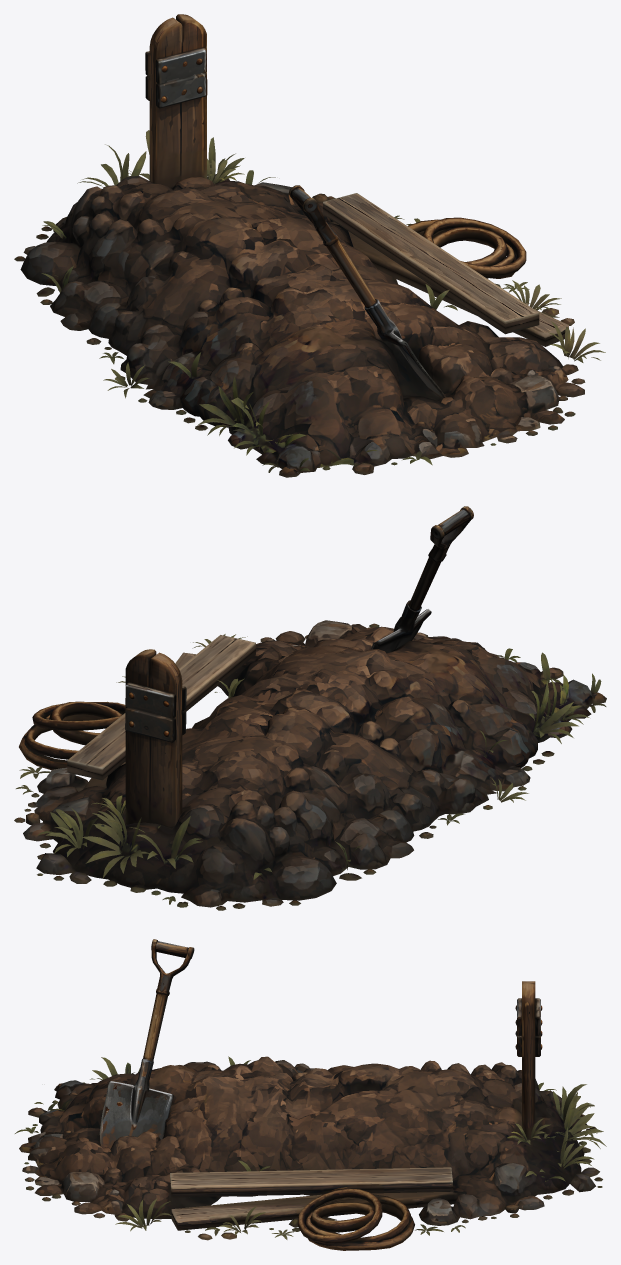
The model's file is act1_extras_v1_fresh_grave.glb.
The picture shows the model from 3 angles, top to bottom: view 1: azimuth 30°, elevation 25°; view 2: azimuth 150°, elevation 25°; view 3: azimuth 270°, elevation 25°; orthographic projection. The views are drawn at different scales.
Visible parts, largest first — view 1: tripo_2cf2c23b_8f0d_4697_acc4_678593e1d93a; view 2: tripo_2cf2c23b_8f0d_4697_acc4_678593e1d93a; view 3: tripo_2cf2c23b_8f0d_4697_acc4_678593e1d93a.
Boxes of the visible parts, left/top/right/bottom form: tripo_2cf2c23b_8f0d_4697_acc4_678593e1d93a: left=14, top=14, right=605, bottom=477; tripo_2cf2c23b_8f0d_4697_acc4_678593e1d93a: left=14, top=506, right=606, bottom=910; tripo_2cf2c23b_8f0d_4697_acc4_678593e1d93a: left=15, top=939, right=606, bottom=1250.
Bounding box in the file's own units: 0.7358 × 0.3433 × 0.9995.
1 material, 1 textured.
